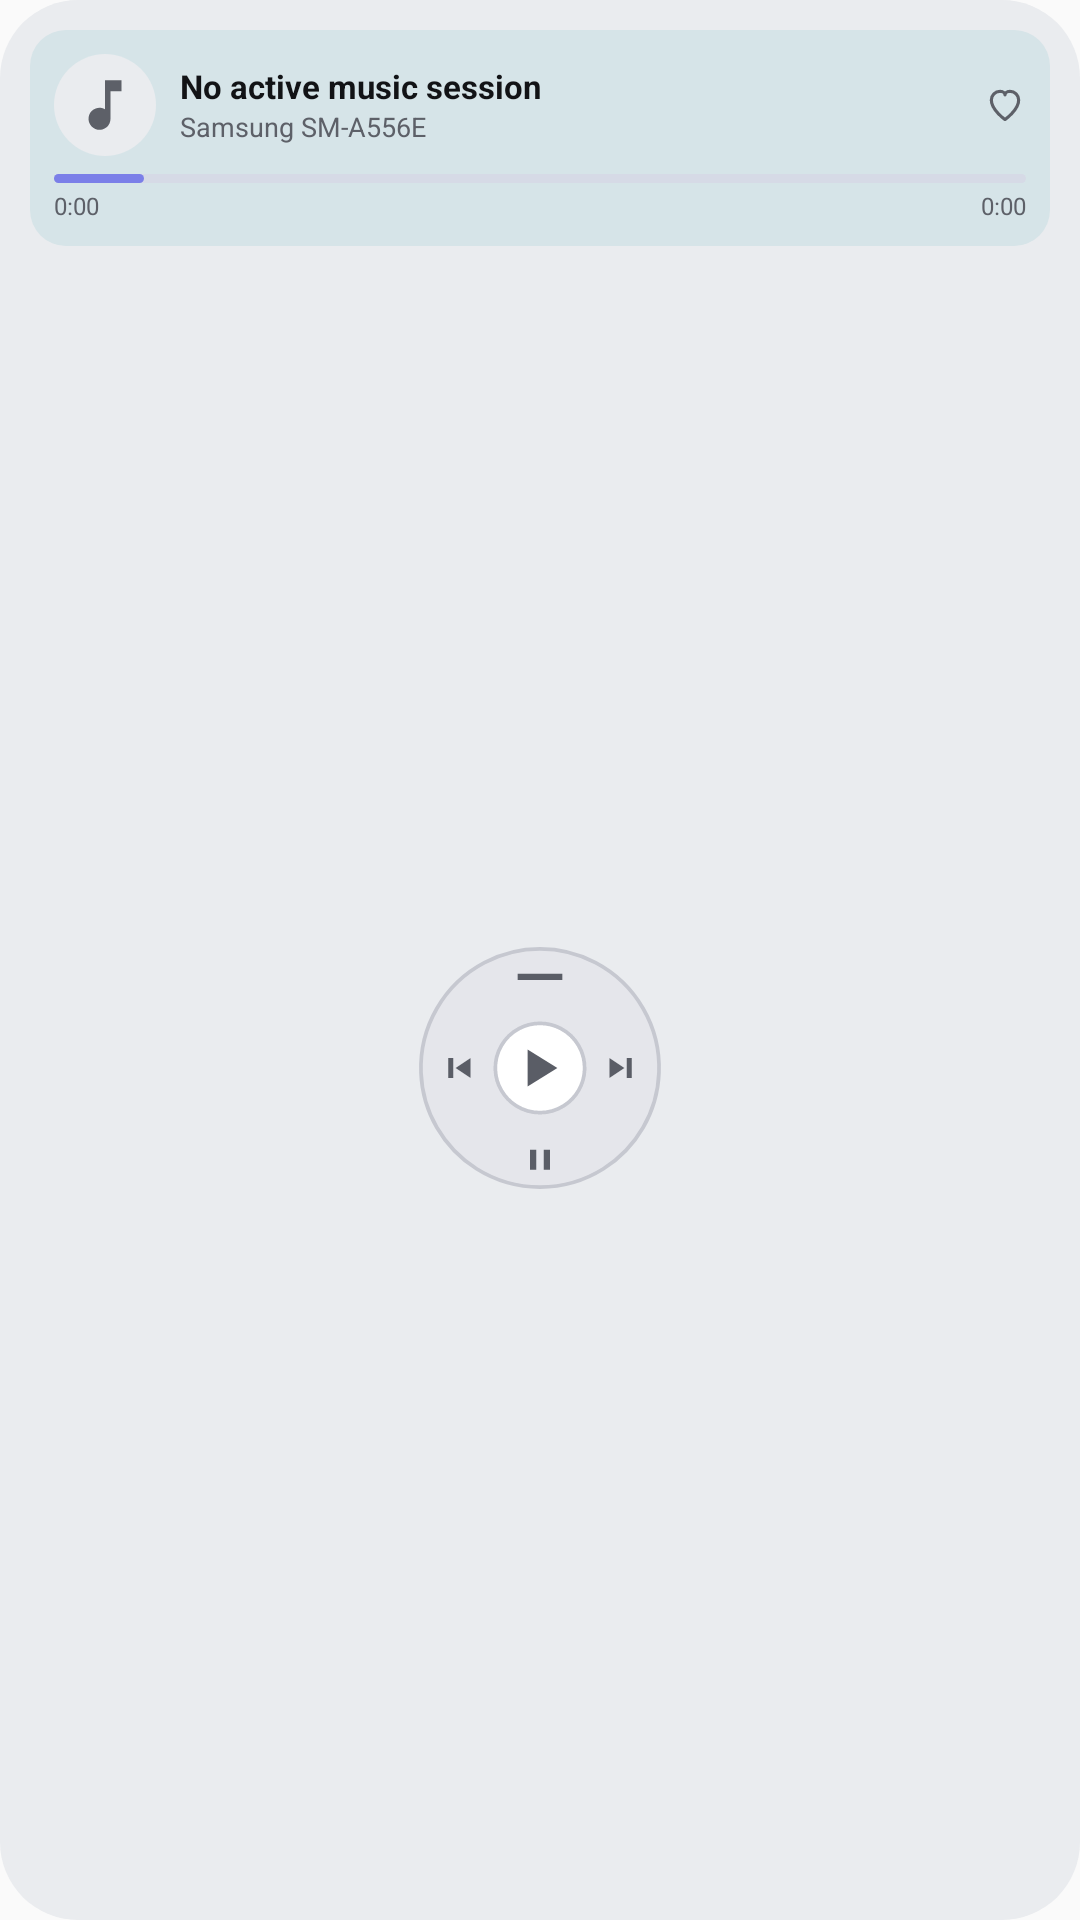

Icon click points for this 1080px×1920px phone screenshot, format point (x, y):
heart: point (1005, 105)
ipod wheel: point (540, 1068)
music note: point (105, 105)
